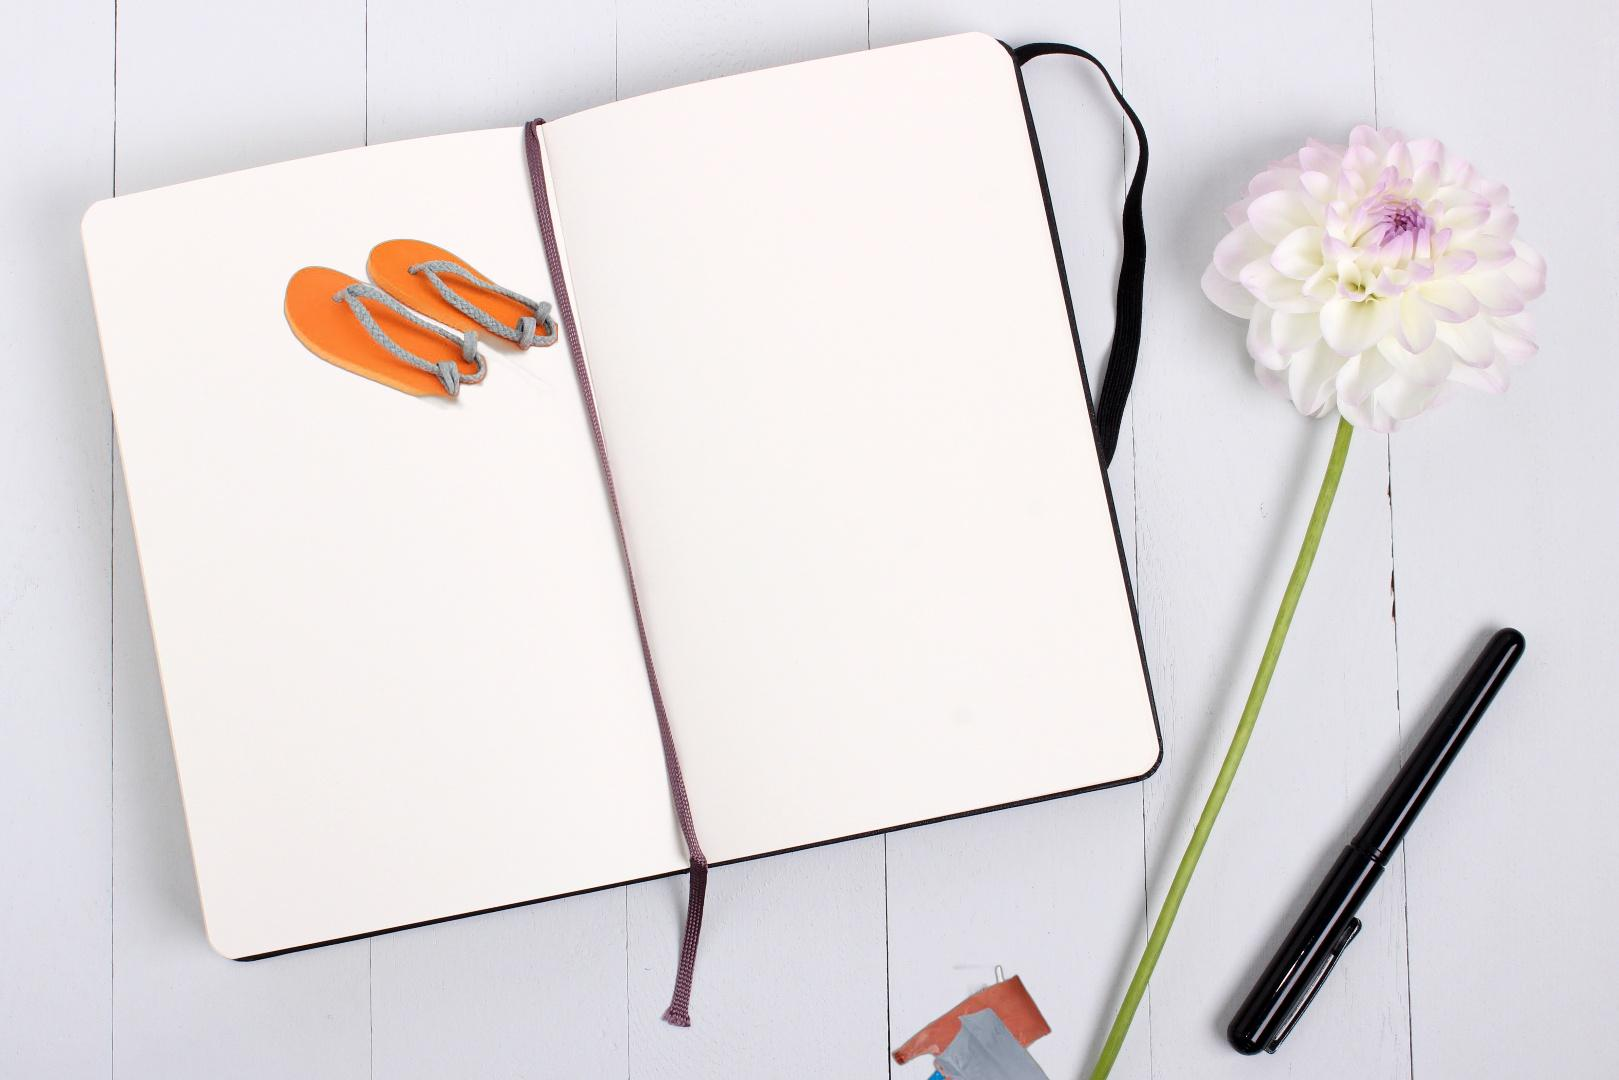plastic-bag: (888, 963, 1089, 1080)
shoes: (283, 236, 558, 410)
